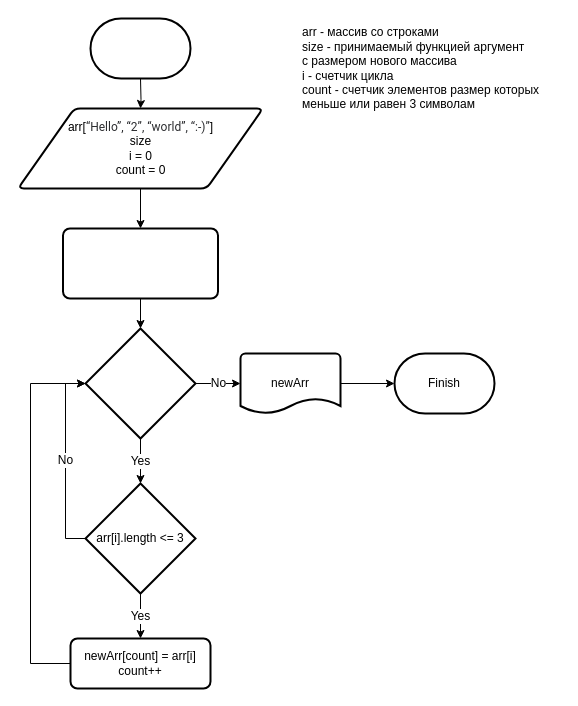
This 578x706 diagram has some shape labels left out. Each missing label, with the centre of its shape:
i < arr.length: (140,383)
newArr[size]: (140,263)
Start: (140,48)
